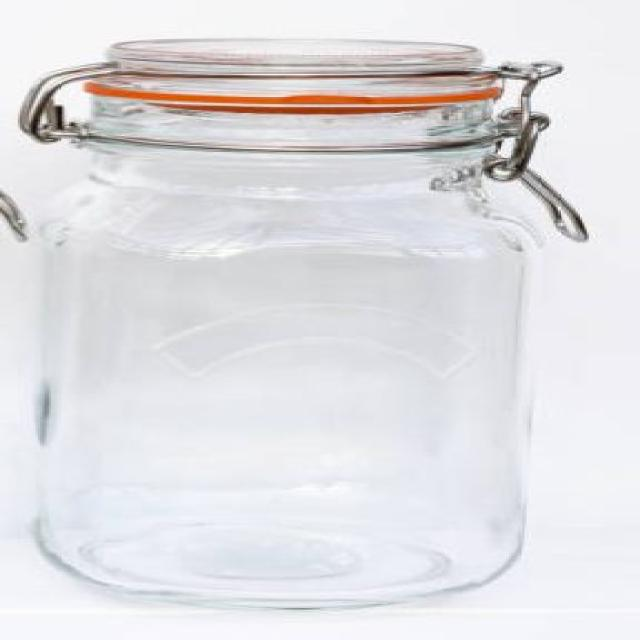electronic: (32, 36, 536, 621)
